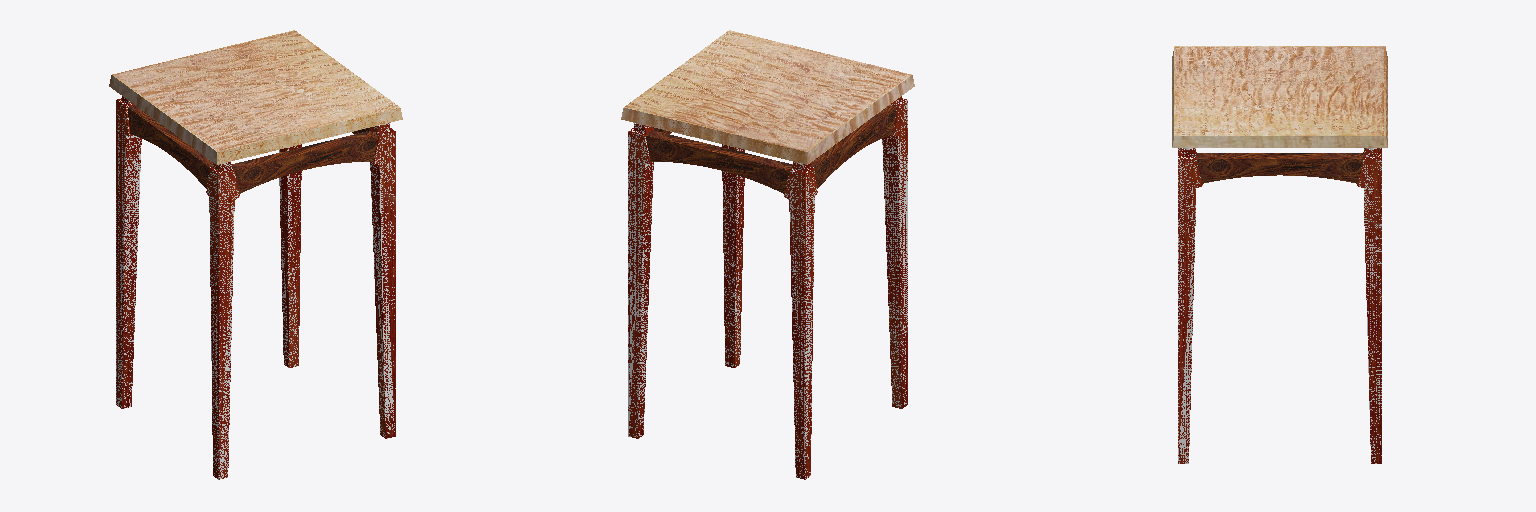
3 renders of one model, left to right at view 1: azimuth 30°, elevation 25°; view 2: azimuth 150°, elevation 25°; view 3: azimuth 270°, elevation 25°, orthographic.
Visible parts, largest first — view 1: mesh1_mesh1-geometry, mesh5_mesh5-geometry, mesh3_mesh3-geometry; view 2: mesh1_mesh1-geometry, mesh5_mesh5-geometry, mesh3_mesh3-geometry; view 3: mesh5_mesh5-geometry, mesh1_mesh1-geometry, mesh3_mesh3-geometry.
Boxes of the visible parts, <box> form: mesh1_mesh1-geometry: <box>116,96,395,479</box>; mesh5_mesh5-geometry: <box>109,30,402,164</box>; mesh3_mesh3-geometry: <box>127,105,377,193</box>; mesh1_mesh1-geometry: <box>628,96,907,479</box>; mesh5_mesh5-geometry: <box>621,30,914,164</box>; mesh3_mesh3-geometry: <box>646,105,896,193</box>; mesh5_mesh5-geometry: <box>1172,46,1387,147</box>; mesh1_mesh1-geometry: <box>1178,148,1381,463</box>; mesh3_mesh3-geometry: <box>1180,148,1379,183</box>.
Size of the model in its own units: 0.4538 by 0.7668 by 0.4538.
Materials: 13 (8 with a texture image).